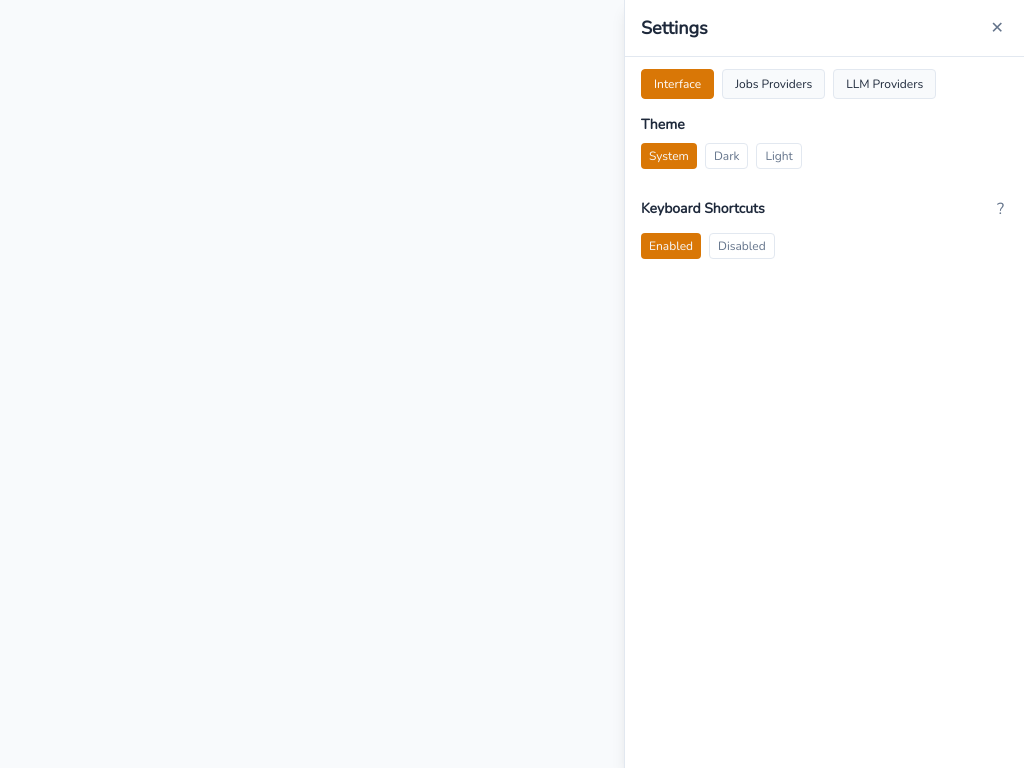
SettingsPanel › shows Reed obtain button when key is missing
What coordinates should you click on to do the following:
click the tab "Jobs Providers"
I would click on:
 (774, 84)
Its box is [722,69,825,99].
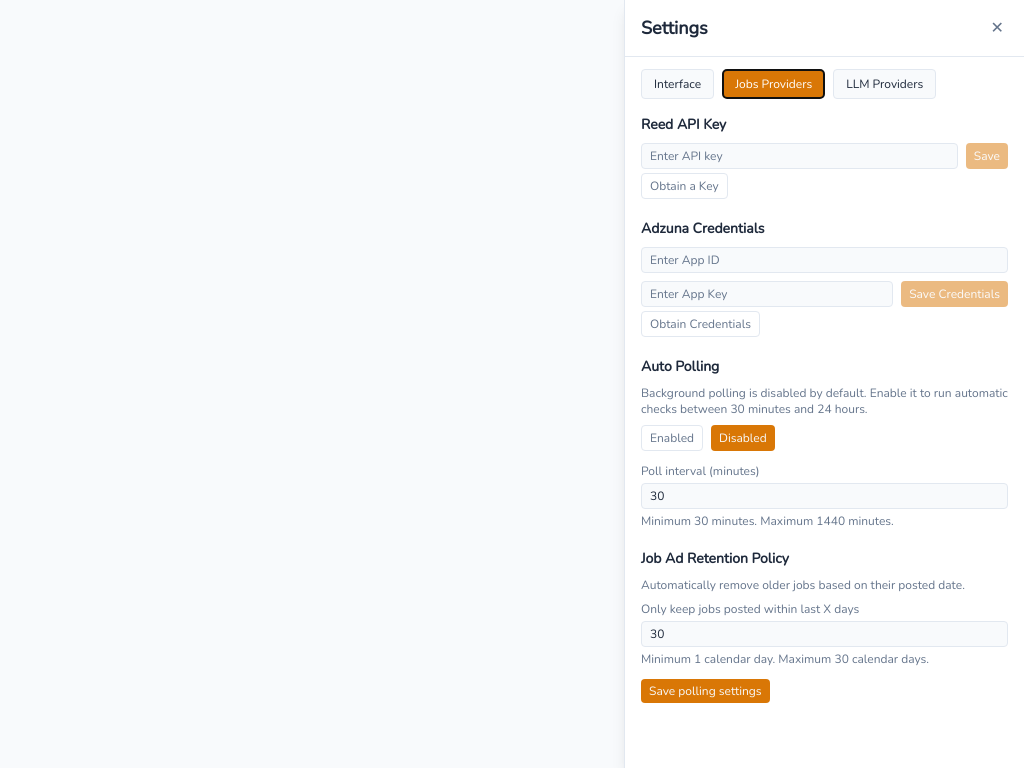
Now the button "Obtain a Key" is shown, box [641,173,728,199]
